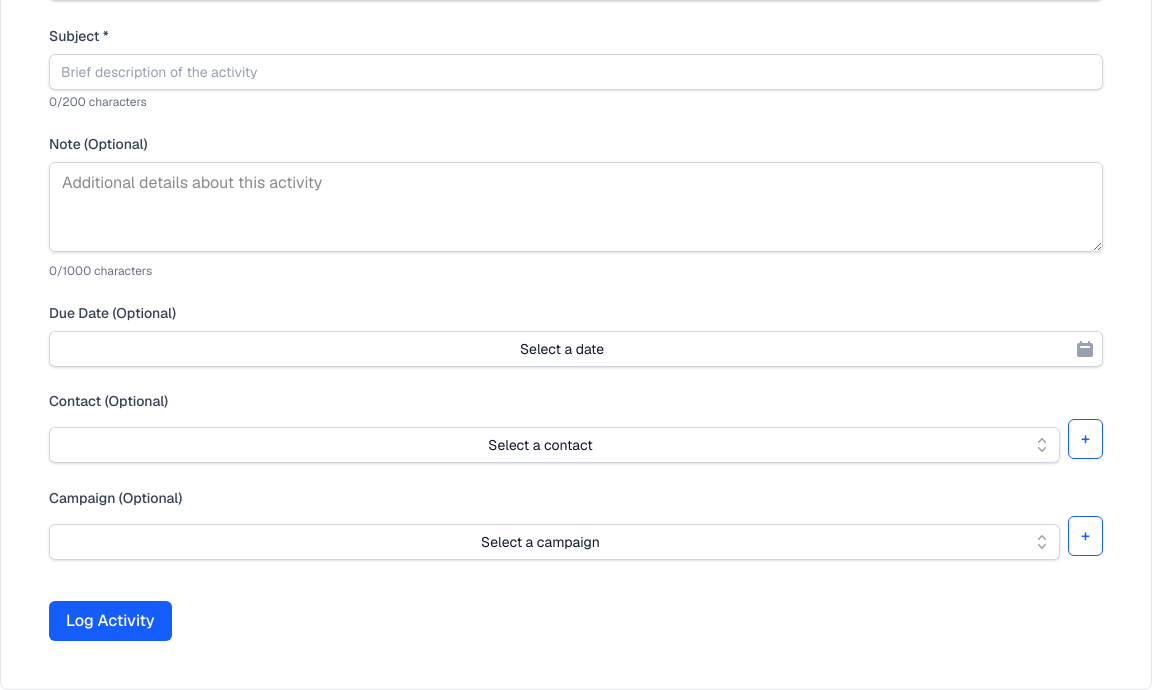
Scenario: ActivityForm › should show selected campaign information
(page scrolled)
Note: Select campaign
Click the button "Select a campaign" at (554, 542), box left=49, top=524, right=1060, bottom=560
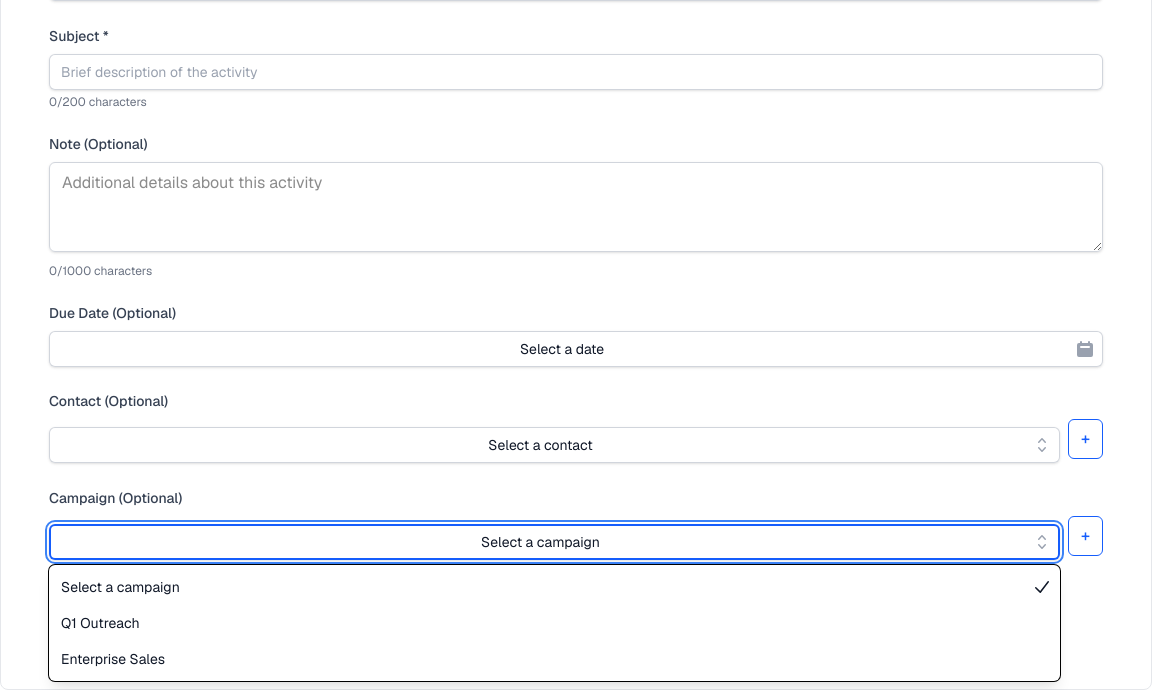
Expected: the list is shown, left=49, top=565, right=1060, bottom=681
Click the option "Q1 Outreach" at (100, 623), box left=61, top=614, right=140, bottom=632
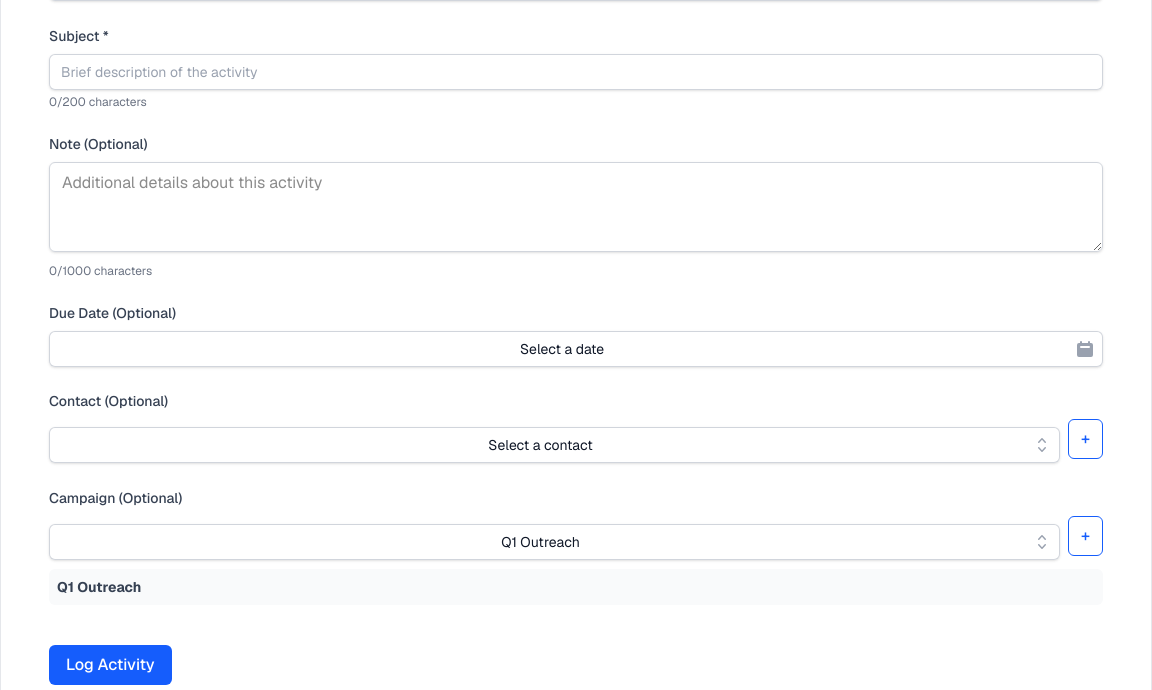
Expected: the element with test id "campaign-info-container" reads "Q1 Outreach", left=57, top=578, right=141, bottom=596
